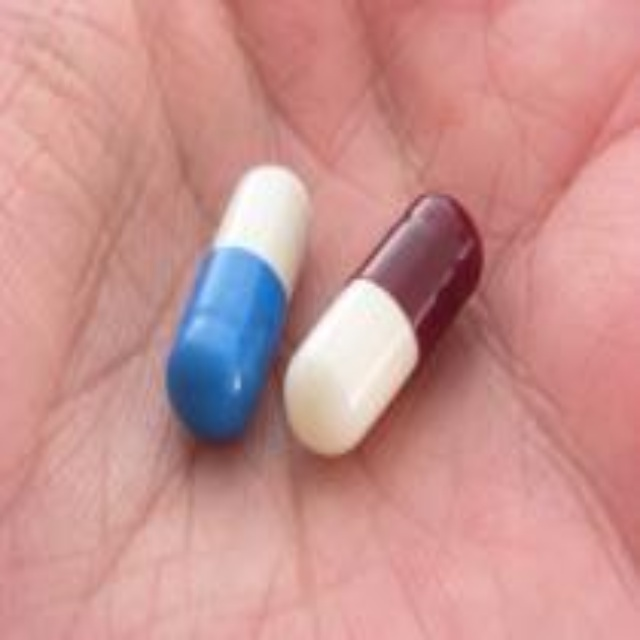pill: (94, 48, 159, 112), (55, 40, 102, 108)
